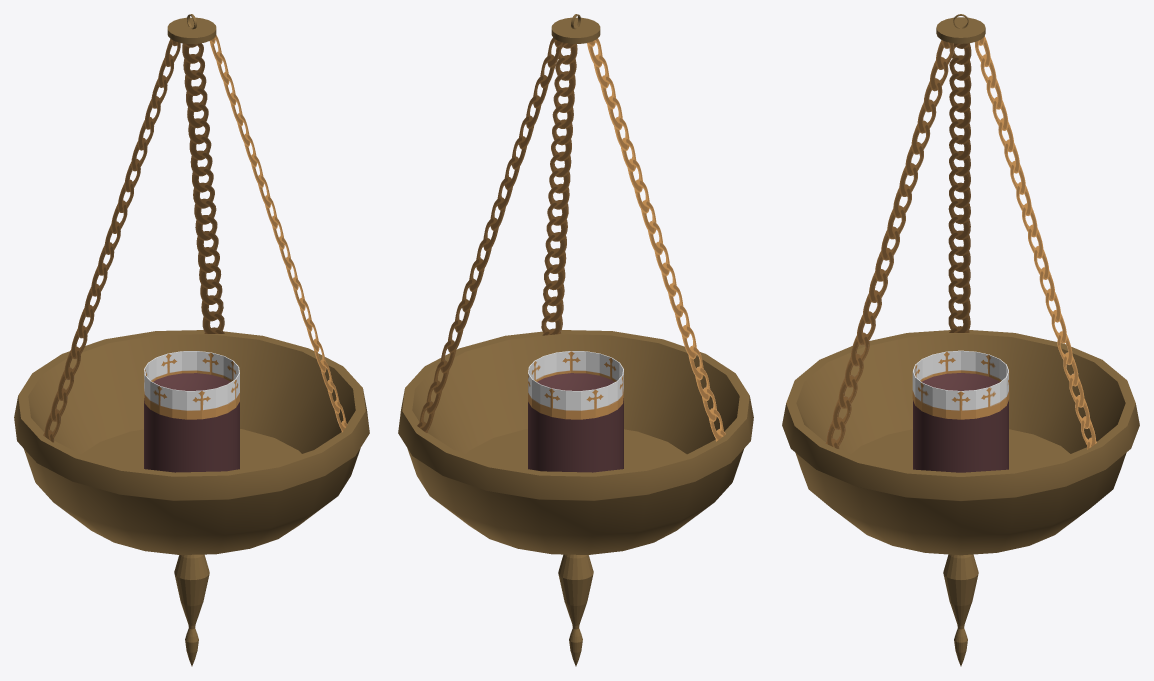
The model's file is SanctuaryLampA.fbx.
3 renders of one model, left to right at view 1: azimuth 30°, elevation 25°; view 2: azimuth 150°, elevation 25°; view 3: azimuth 270°, elevation 25°, orthographic.
Visible parts, largest first — view 1: lamp; view 2: lamp; view 3: lamp.
Part boxes in pixels (x1,y1,x2,y2): lamp: (14, 14, 369, 666); lamp: (398, 14, 753, 666); lamp: (782, 14, 1139, 666).
Size of the model in its own units: 3.05 by 6.14 by 3.05.
Materials: 4 (2 with a texture image).
